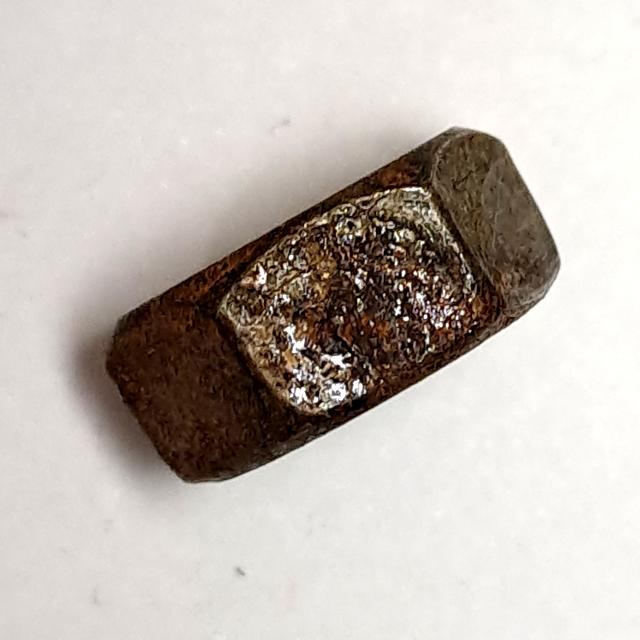Side_Rust: (96, 113, 569, 503)
